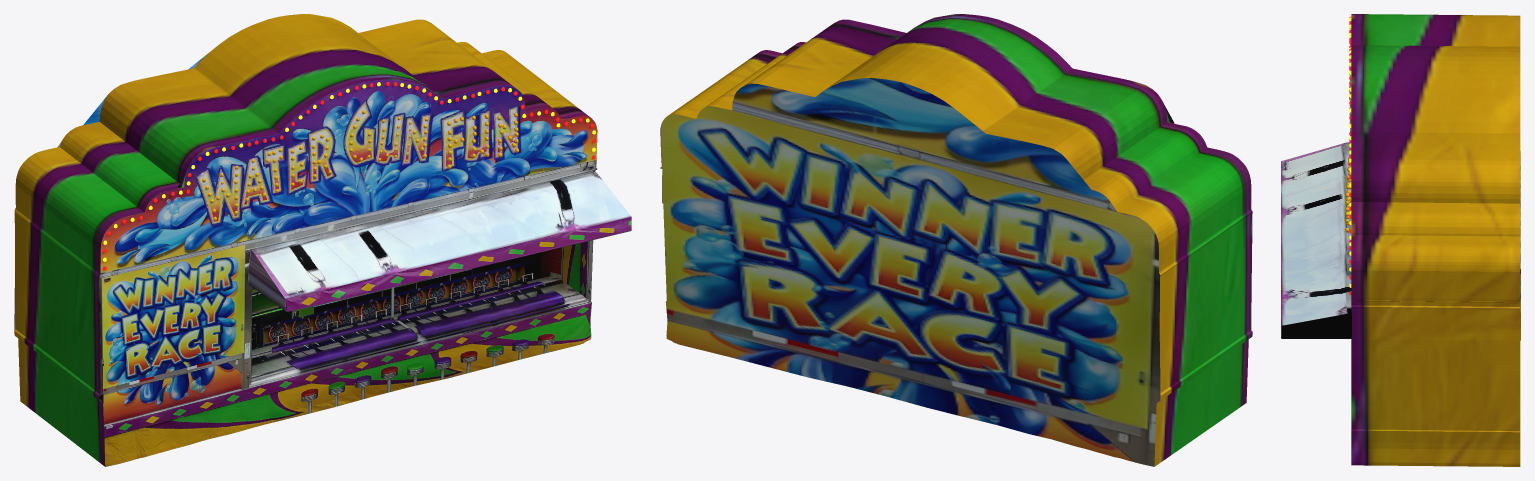
File: Water Gun Fun.fbx
3 views of the same model, side by side, from view 1: azimuth 30°, elevation 25°; view 2: azimuth 150°, elevation 25°; view 3: azimuth 270°, elevation 25° (orthographic). The views are drawn at different scales.
Visible parts, largest first — view 1: maxresdefault-topaz2-enhance; view 2: maxresdefault-topaz2-enhance; view 3: maxresdefault-topaz2-enhance.
Boxes of the visible parts, x1,y1,x2,y2 form: maxresdefault-topaz2-enhance: (14, 14, 631, 466); maxresdefault-topaz2-enhance: (660, 14, 1252, 466); maxresdefault-topaz2-enhance: (1281, 14, 1520, 466).
Bounding box in the file's own units: 1145 × 496 × 702.
Materials: 4 (1 with a texture image).
